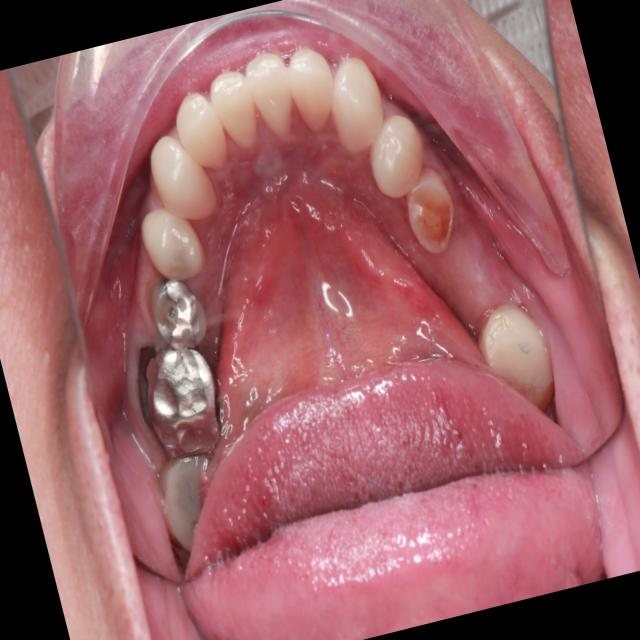tooth: (462, 281, 576, 424), (125, 331, 239, 473), (307, 27, 406, 181), (137, 437, 233, 566), (351, 97, 451, 218), (136, 121, 236, 241), (127, 255, 222, 372), (194, 41, 278, 172), (386, 150, 475, 269), (235, 37, 315, 165), (275, 26, 353, 152), (161, 73, 241, 188), (131, 197, 221, 297)
